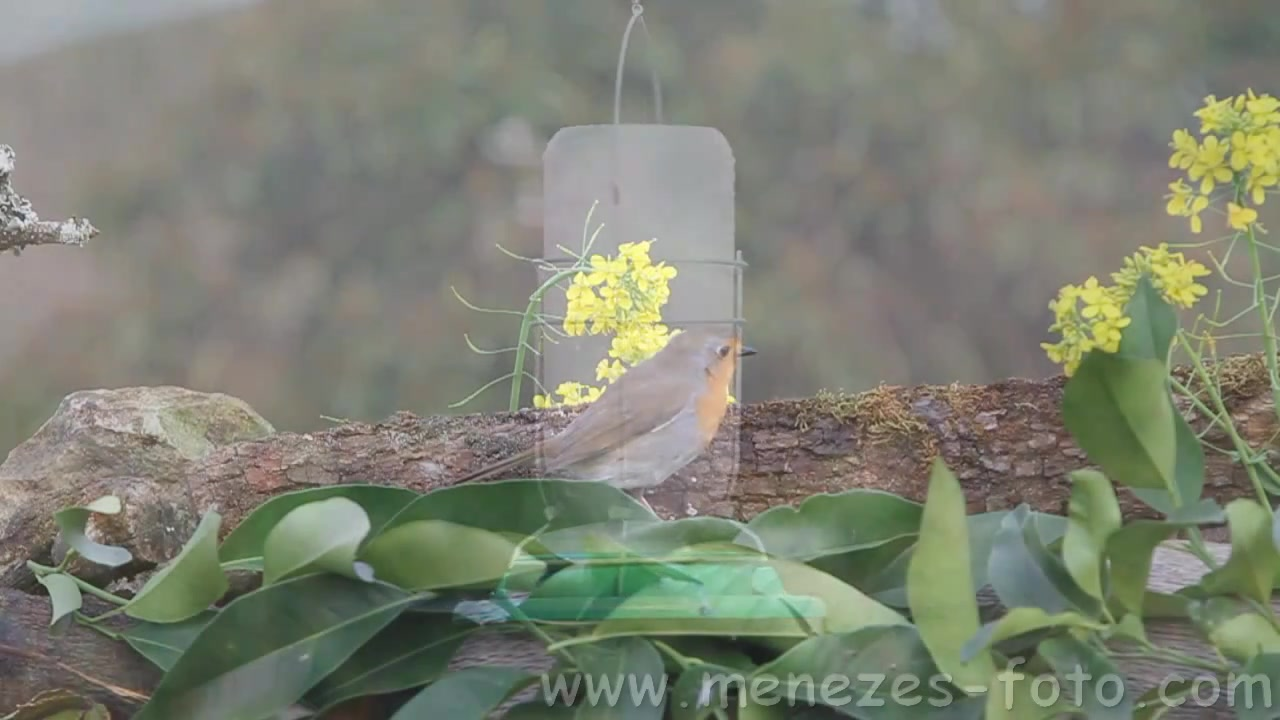bird: (451, 330, 760, 523)
